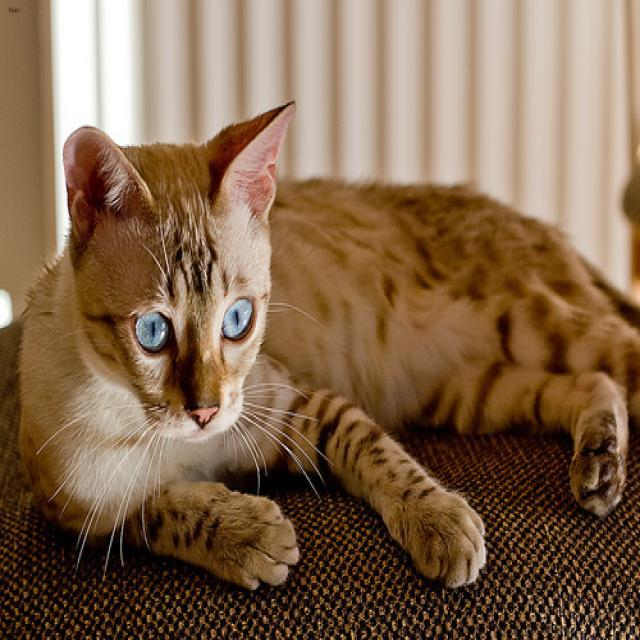Bengal: (58, 114, 279, 437)
